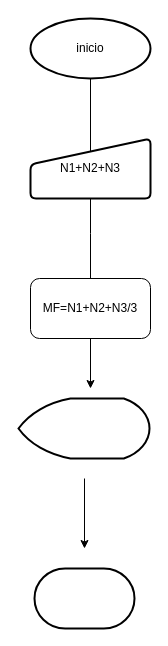
Some shapes in this 168 by 646 pixel diagram are drawn without their labels. The box of each missing label's shape, as (x1, y1, x2, y2) in pixels:
FIM: (33, 567, 135, 629)
MF: (17, 397, 150, 459)
